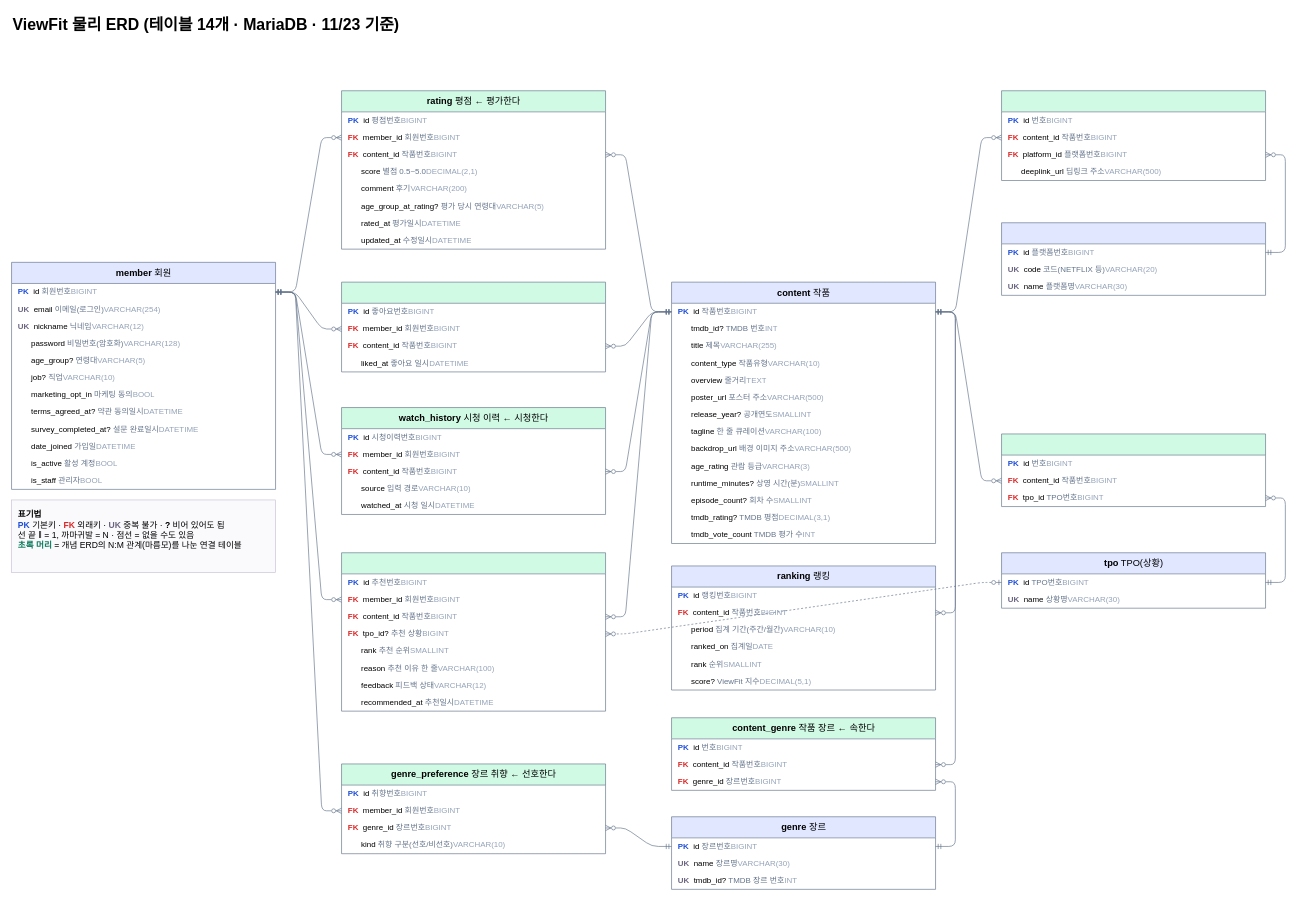
This 1303x901 diagram has some shape labels left out. The shapes that lost their labels are listed below. From the top down, each one's box as (x1, y1, x2, y2) in pixels, then its label:
(1001, 90, 1266, 181): content_platform 작품 제공 OTT ← 제공된다
(1001, 222, 1266, 295): ott_platform OTT 플랫폼
(341, 281, 606, 372): content_like 좋아요
(1001, 433, 1266, 507): content_tpo 작품 TPO ← 어울린다
(341, 552, 606, 711): recommendation AI 추천 ← 추천 받는다
